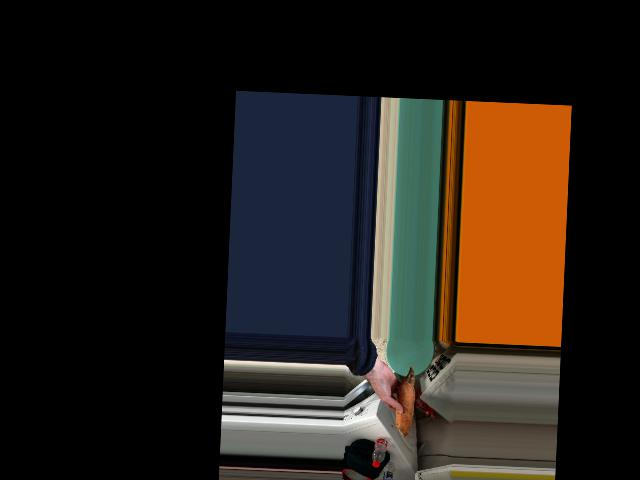sweet_potato: (389, 367, 415, 428)
